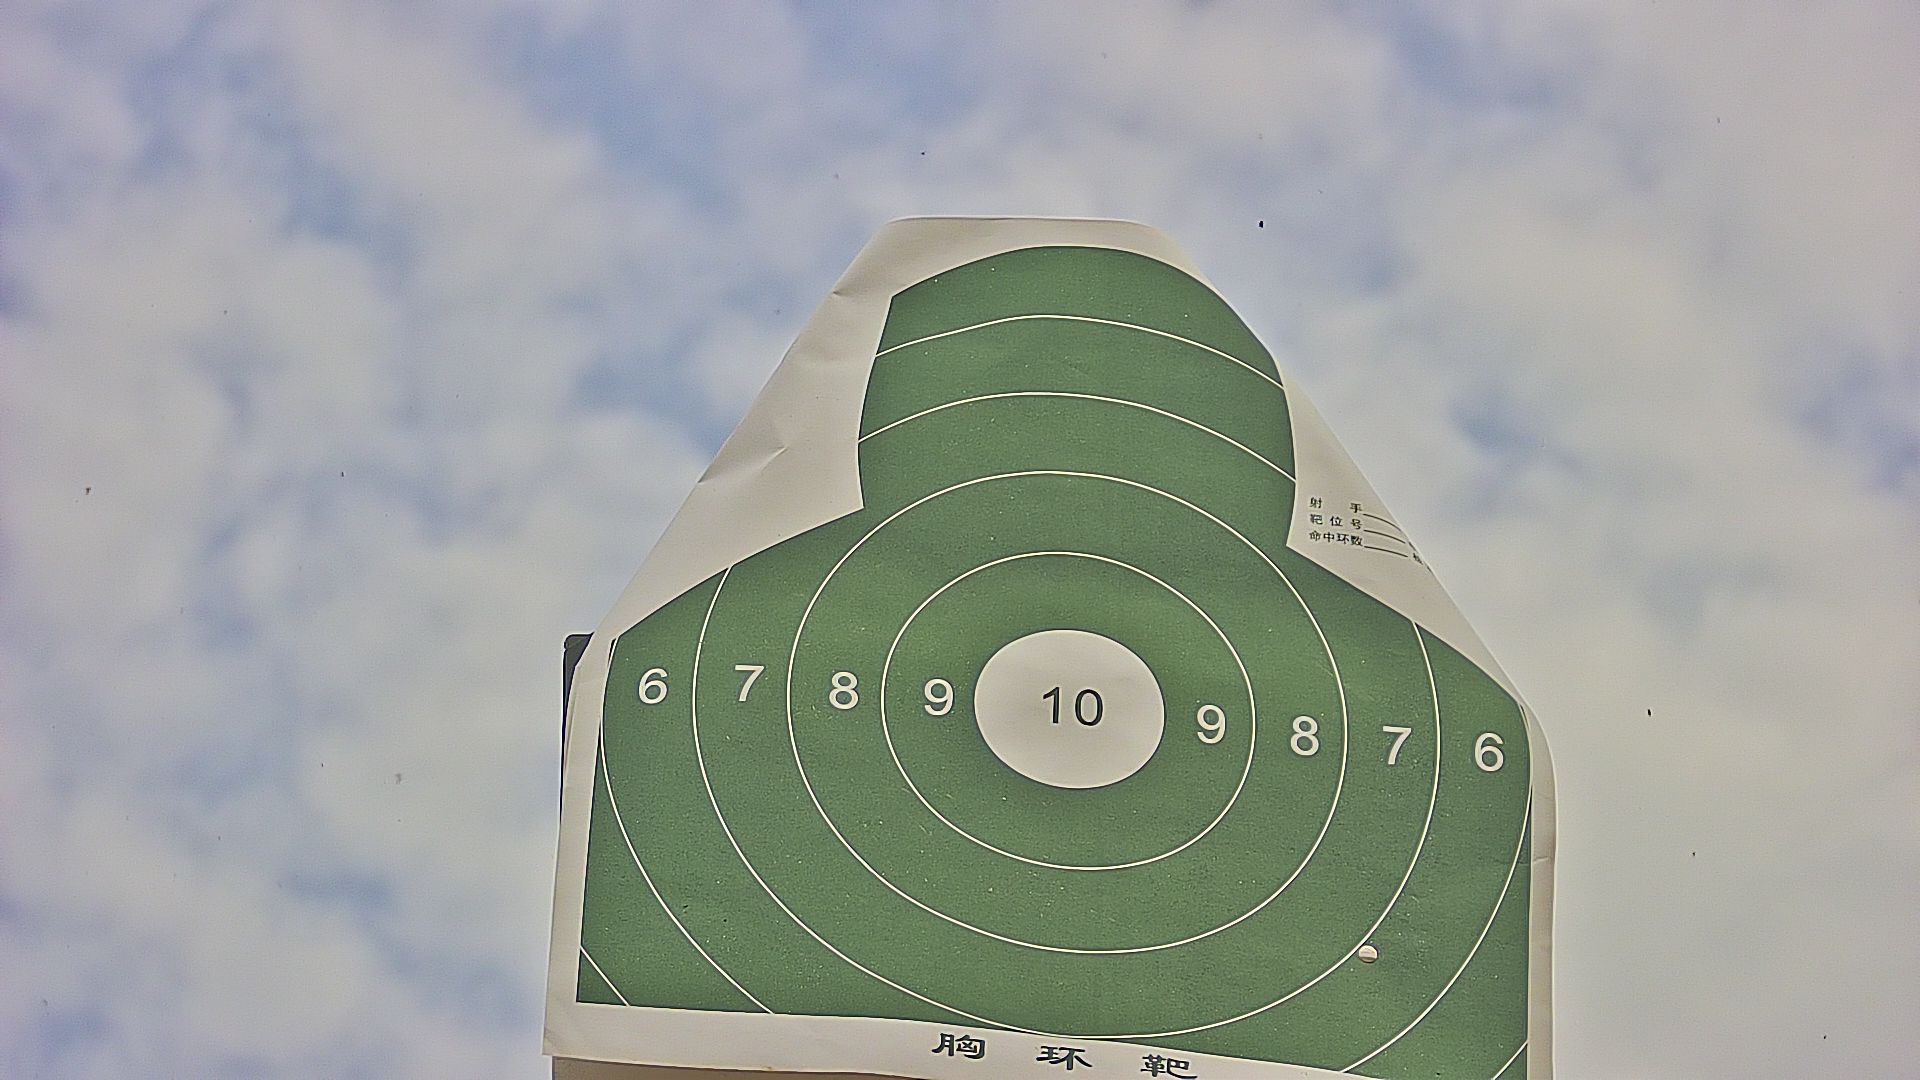target: (575, 245, 1534, 1080)
ten: (972, 624, 1166, 796)
